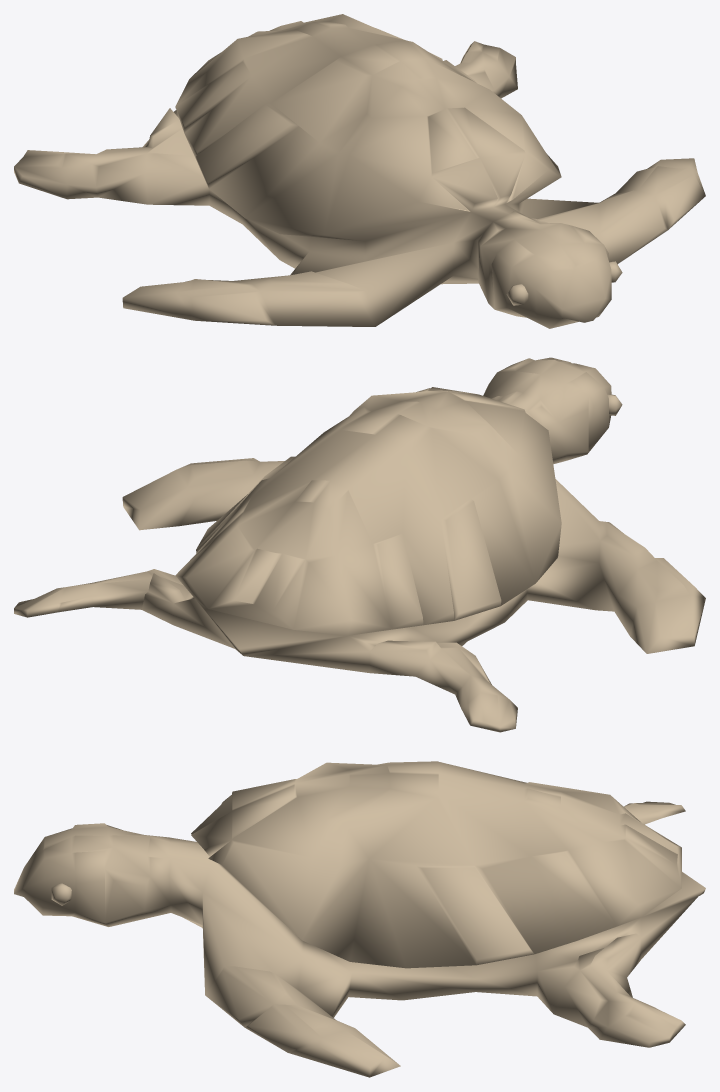
Rendered from bixi.glb.
3 views of the same model, one above another, from view 1: azimuth 30°, elevation 25°; view 2: azimuth 150°, elevation 25°; view 3: azimuth 270°, elevation 25° (orthographic).
Visible parts, largest first — view 1: Turtle.1; view 2: Turtle.1; view 3: Turtle.1.
Part boxes in pixels (bbox=[...]): Turtle.1: bbox=[14, 14, 705, 328]; Turtle.1: bbox=[14, 357, 705, 732]; Turtle.1: bbox=[14, 761, 705, 1077].
Size of the model in its own units: 676 by 204 by 718.
